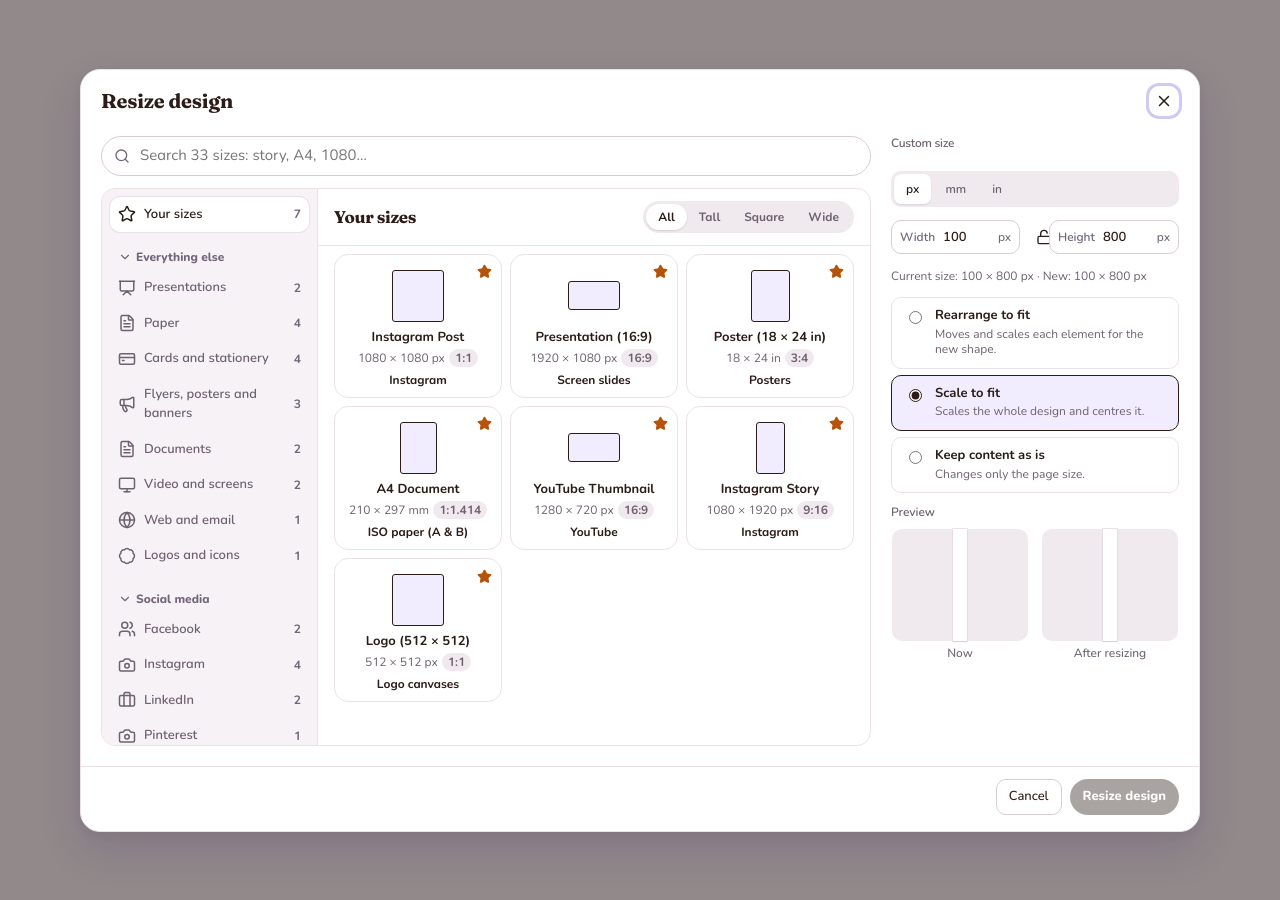
Test: Resize dialog size fields › with the ratio locked the other side follows but stays inside the limits
This screenshot has width=1280, height=900.
Click the button named "Lock aspect ratio" at point(1044, 237), box [1026,219,1062,255]
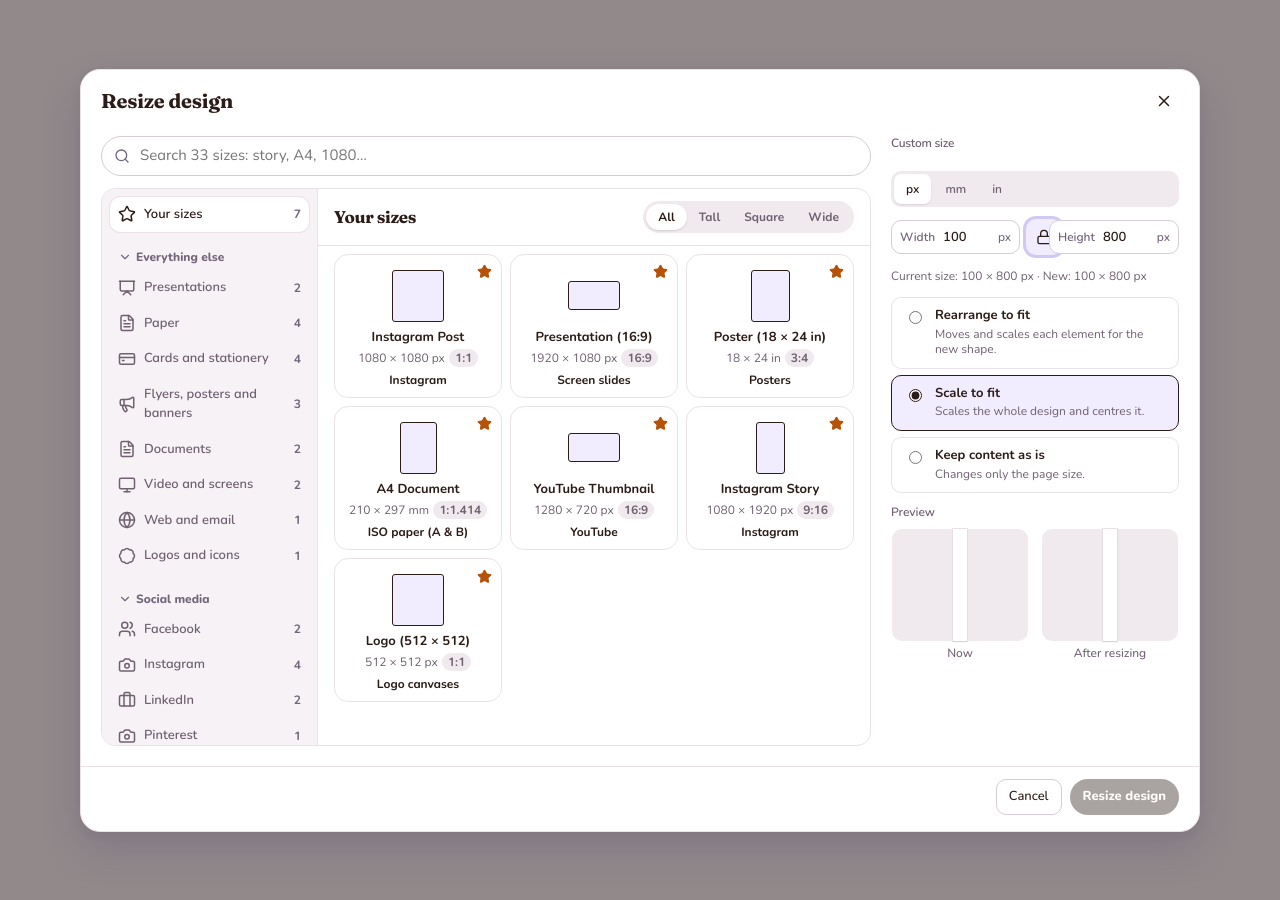
Replace the text in the field labelled "Width" with "20000" at point(966, 237), box [941,227,992,247]
Then press Enter
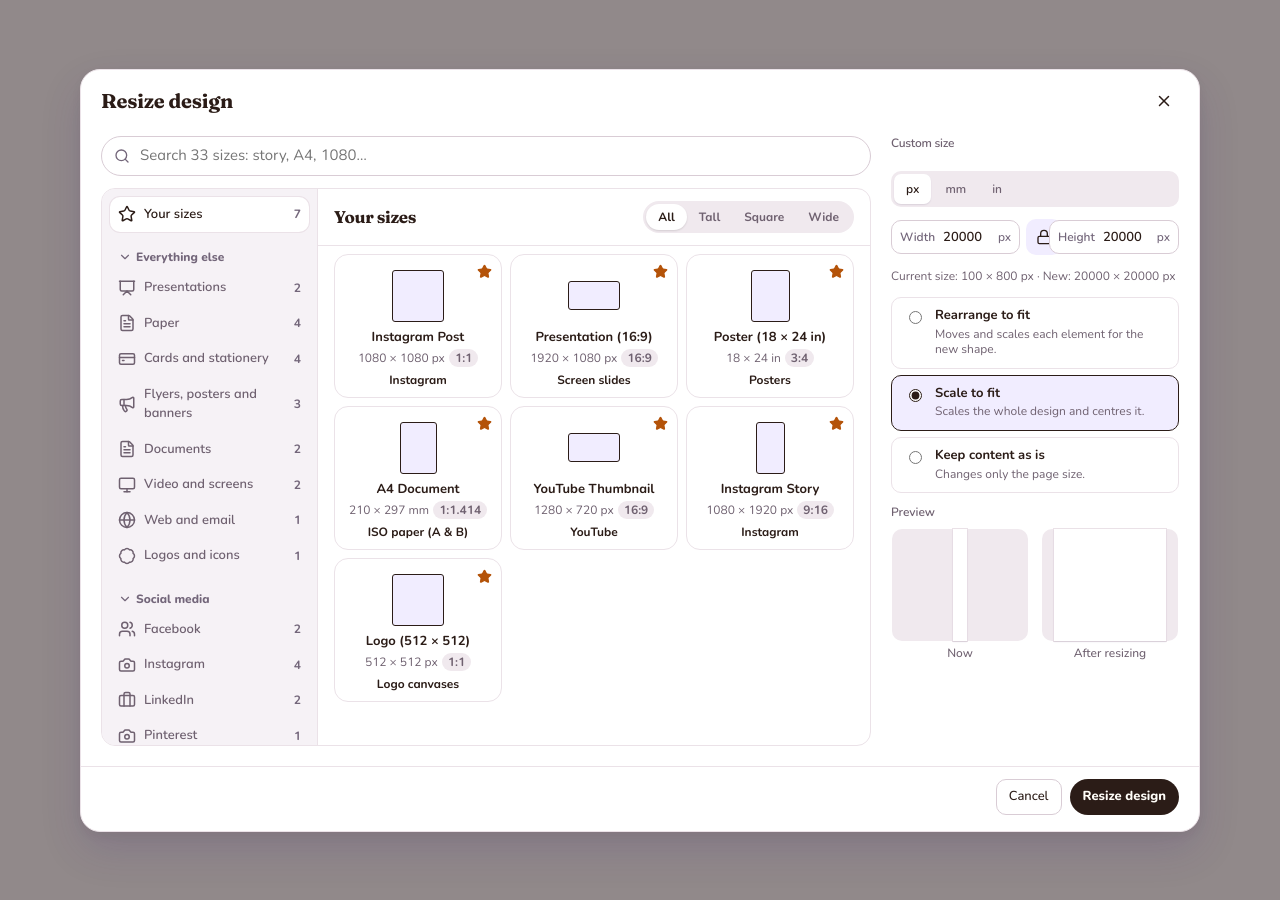
expect the text "Current size: 100 × 800 px · New: 20000 × 20000 px" is shown: met, box [891,267,1179,285]
